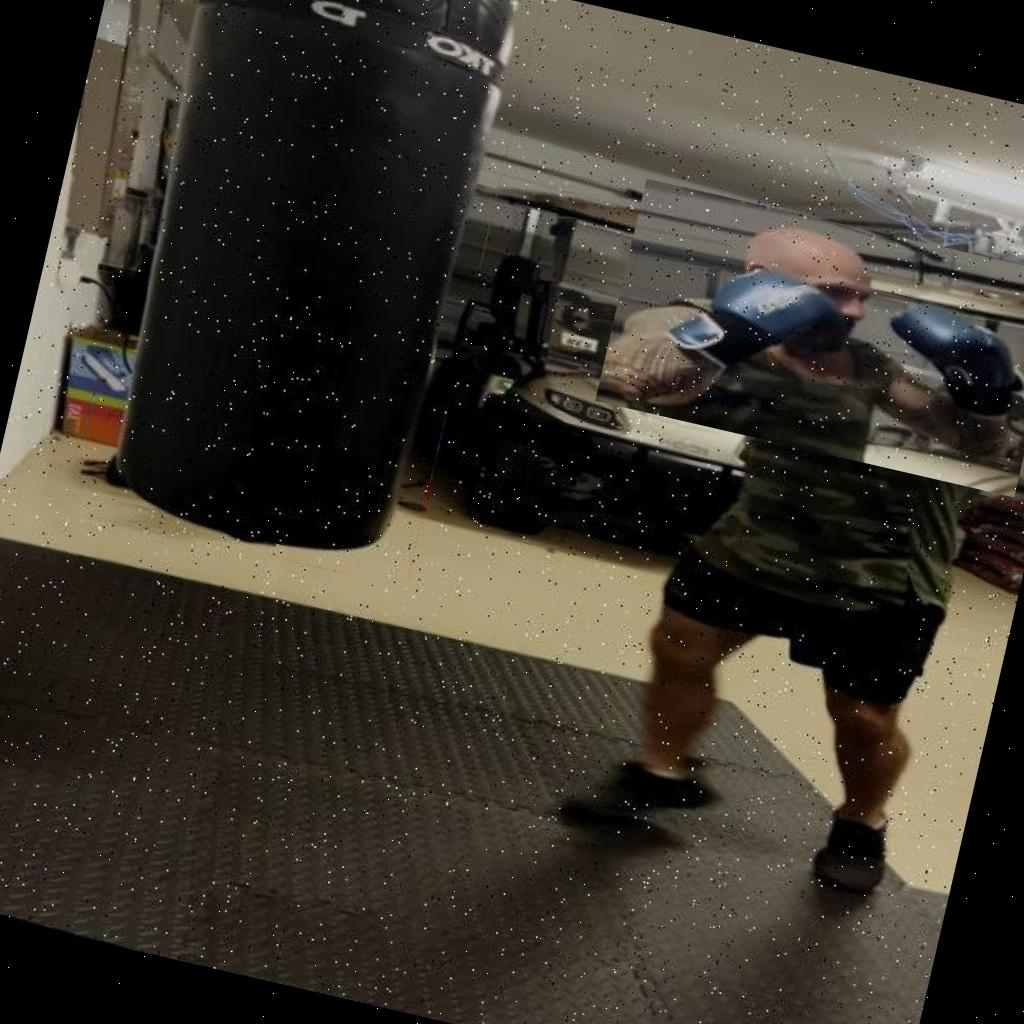bag: (68, 0, 543, 587)
no punch: (595, 178, 1024, 497)
